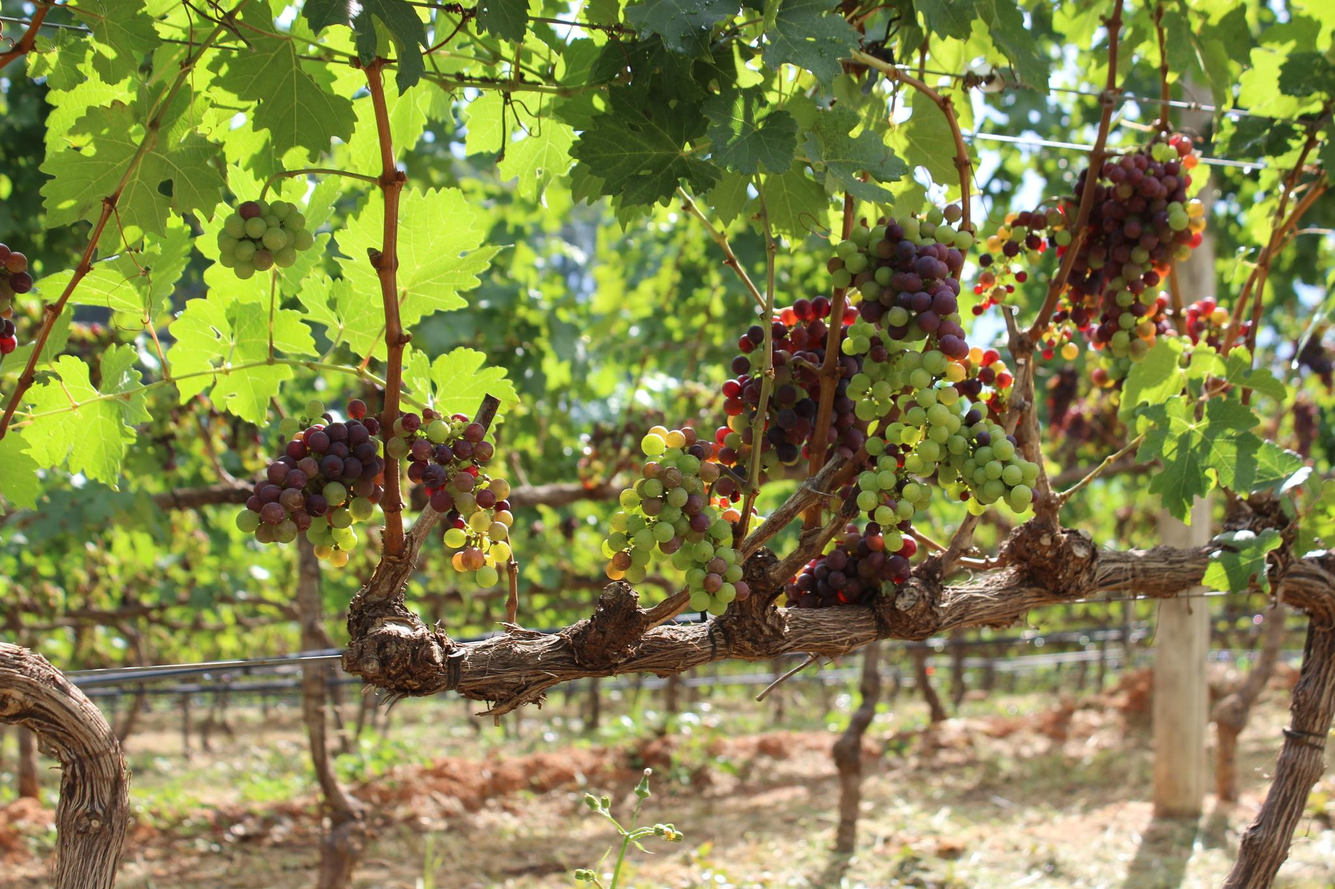Grape Ripe: (1071, 133, 1205, 361), (720, 295, 866, 477), (238, 416, 379, 566), (783, 532, 916, 607)
Grape Unripe: (601, 423, 756, 615), (827, 204, 978, 358), (851, 350, 965, 552), (387, 408, 512, 586), (951, 408, 1039, 516), (214, 201, 314, 279)
